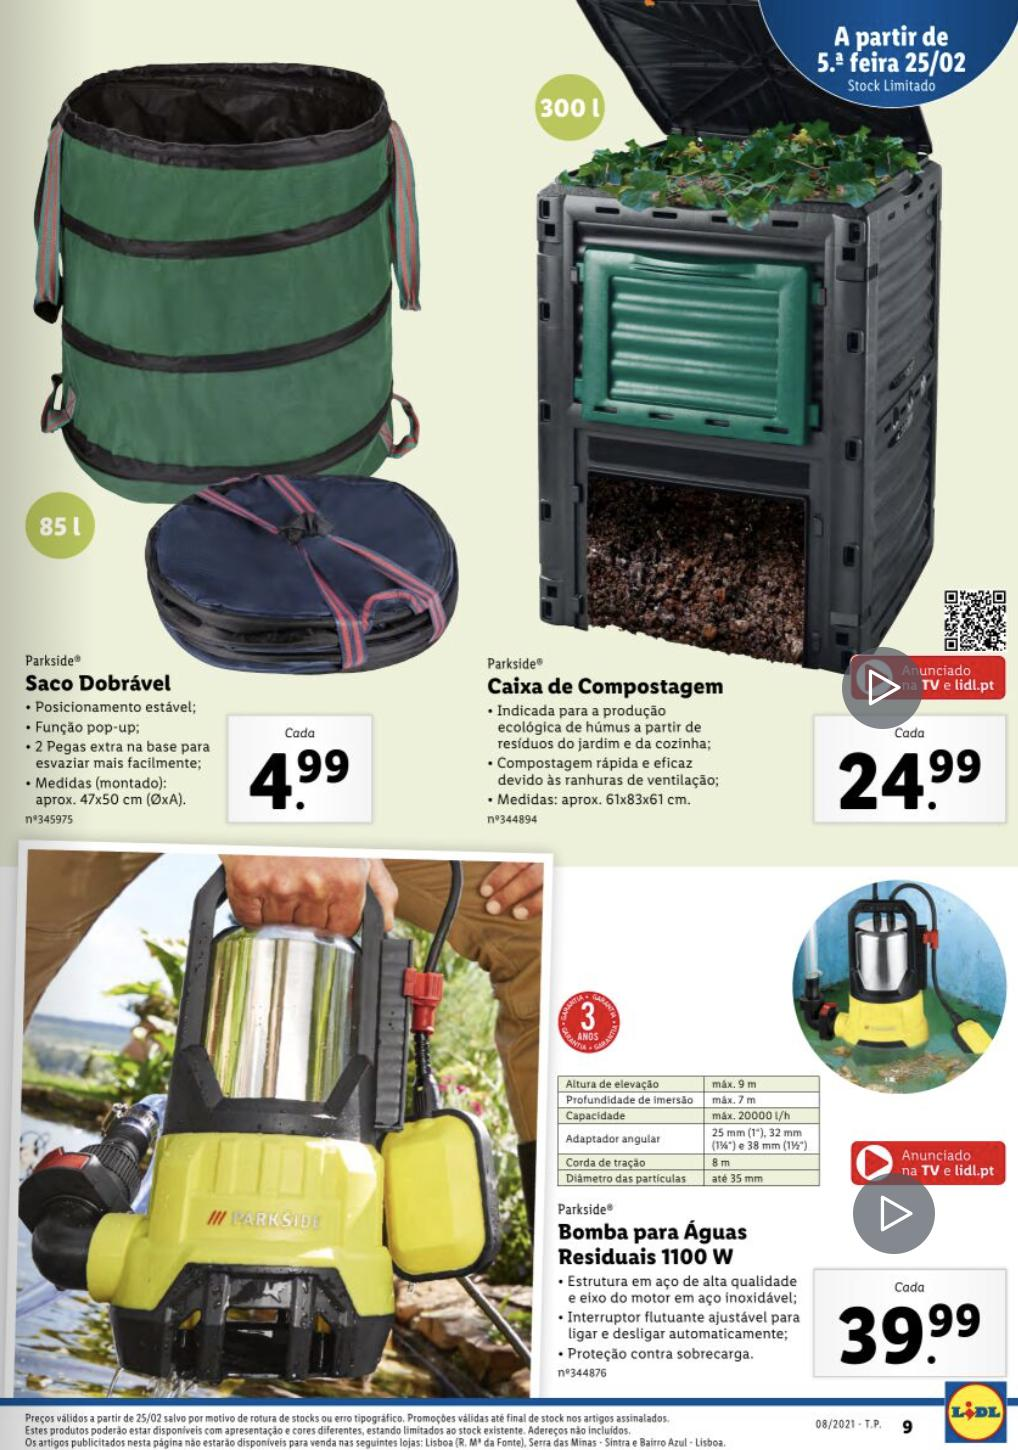name: (557, 1218, 750, 1268), (486, 672, 734, 704), (18, 668, 180, 701)
price: (832, 1295, 989, 1377), (836, 743, 987, 822), (252, 747, 362, 816)
product: (6, 872, 1014, 1399), (478, 77, 1018, 845), (9, 51, 466, 835)
